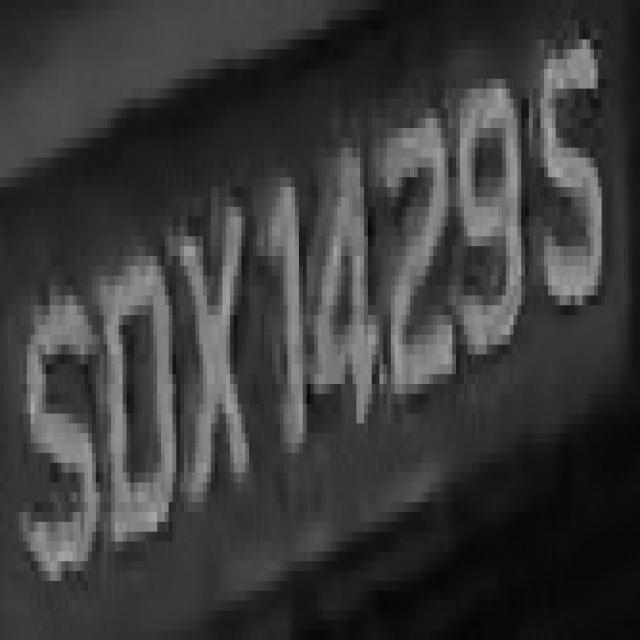1: (257, 148, 318, 482)
2: (380, 79, 452, 414)
4: (303, 138, 379, 433)
9: (448, 79, 536, 364)
D: (96, 236, 176, 591)
S: (15, 286, 100, 600), (532, 30, 606, 305)
X: (176, 177, 253, 532)
